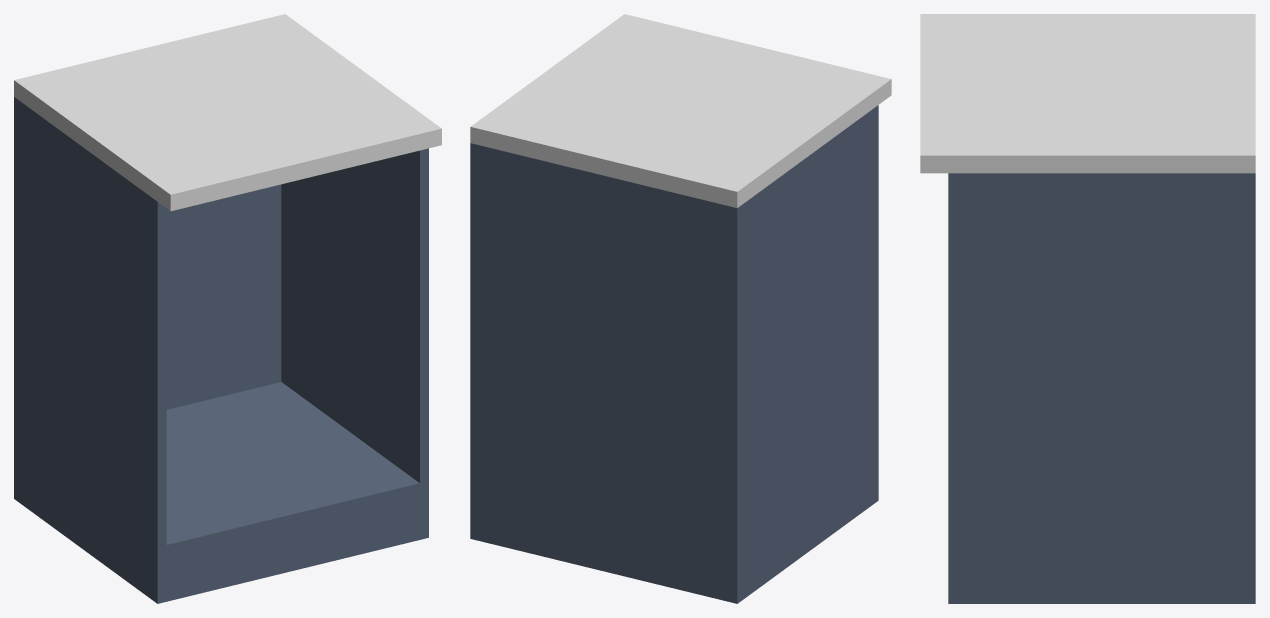
File: Kitchen1_C4_01.fbx
The picture shows the model from 3 angles, left to right: view 1: azimuth 30°, elevation 25°; view 2: azimuth 150°, elevation 25°; view 3: azimuth 270°, elevation 25°; orthographic projection. The views are drawn at different scales.
Visible parts, largest first — view 1: Kitchen1_C4_01; view 2: Kitchen1_C4_01; view 3: Kitchen1_C4_01.
Boxes of the visible parts, x1,y1,x2,y2 form: Kitchen1_C4_01: (14, 14, 441, 603); Kitchen1_C4_01: (470, 14, 891, 603); Kitchen1_C4_01: (920, 14, 1255, 603).
Size of the model in its own units: 60 by 88.5 by 60.
